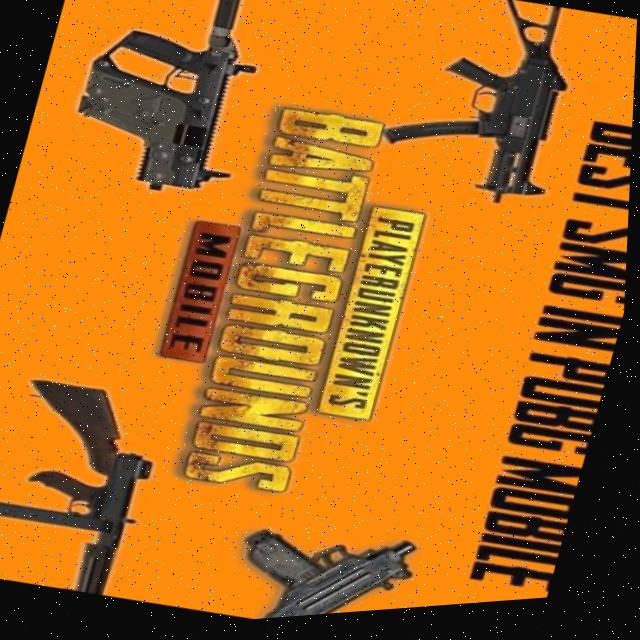firearm: (369, 0, 596, 227), (59, 0, 287, 214), (0, 363, 175, 607), (230, 508, 428, 625)
